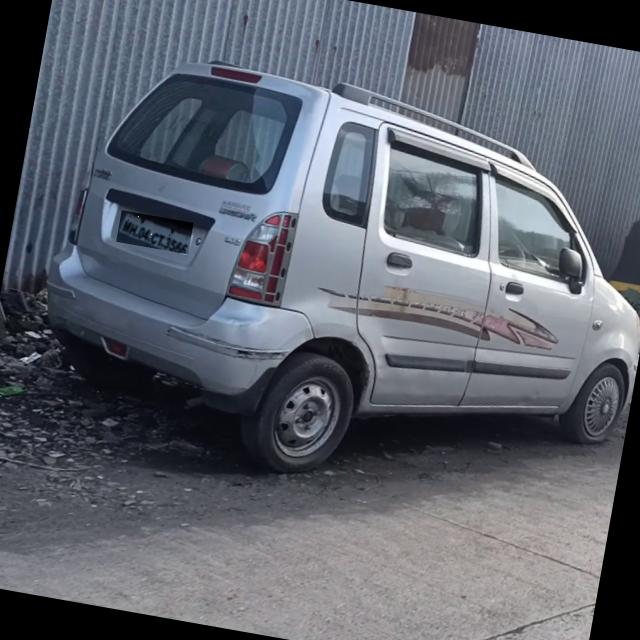Plate: (117, 211, 194, 255)
